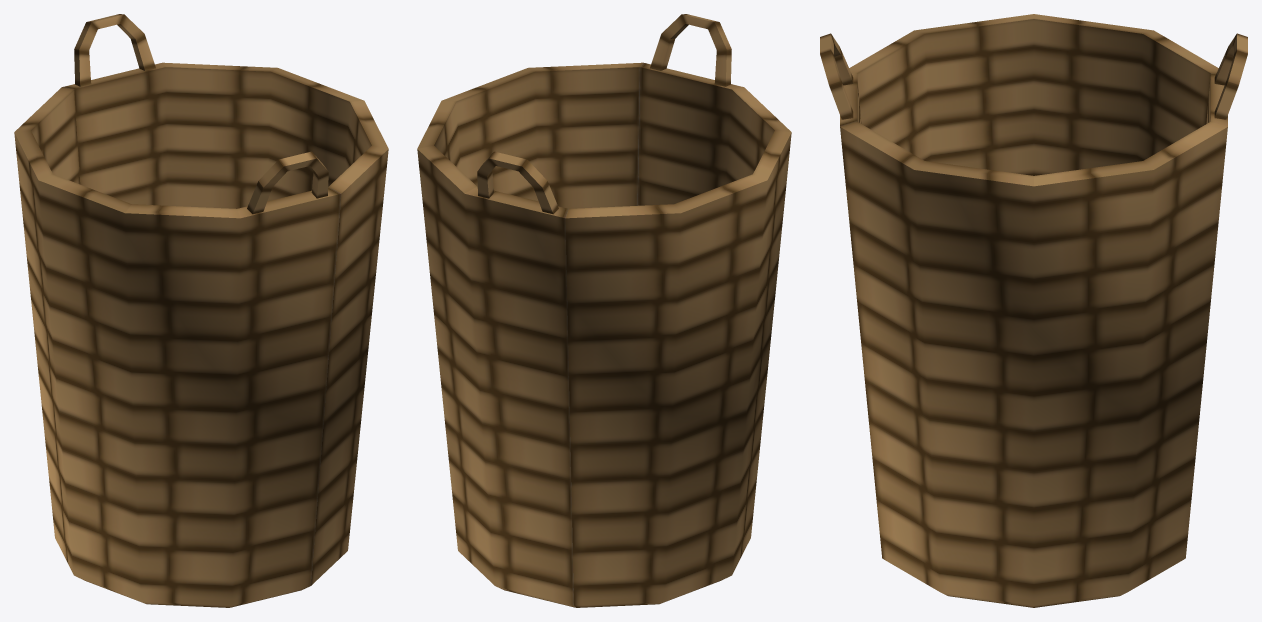
File: SM_Prop_Basket_01.obj
The picture shows the model from 3 angles, left to right: view 1: azimuth 30°, elevation 25°; view 2: azimuth 150°, elevation 25°; view 3: azimuth 270°, elevation 25°; orthographic projection. The views are drawn at different scales.
Visible parts, largest first — view 1: SM_Prop_Basket_01_Mat_SwatchOverlay_Farm_Main_01_Inst; view 2: SM_Prop_Basket_01_Mat_SwatchOverlay_Farm_Main_01_Inst; view 3: SM_Prop_Basket_01_Mat_SwatchOverlay_Farm_Main_01_Inst.
Boxes of the visible parts, box(x1,y1,x2,y2) form: SM_Prop_Basket_01_Mat_SwatchOverlay_Farm_Main_01_Inst: box(14, 14, 388, 607); SM_Prop_Basket_01_Mat_SwatchOverlay_Farm_Main_01_Inst: box(417, 14, 791, 607); SM_Prop_Basket_01_Mat_SwatchOverlay_Farm_Main_01_Inst: box(820, 14, 1247, 607).
Size of the model in its own units: 0.7 by 0.9547 by 0.7342.
Materials: 1 (1 with a texture image).
